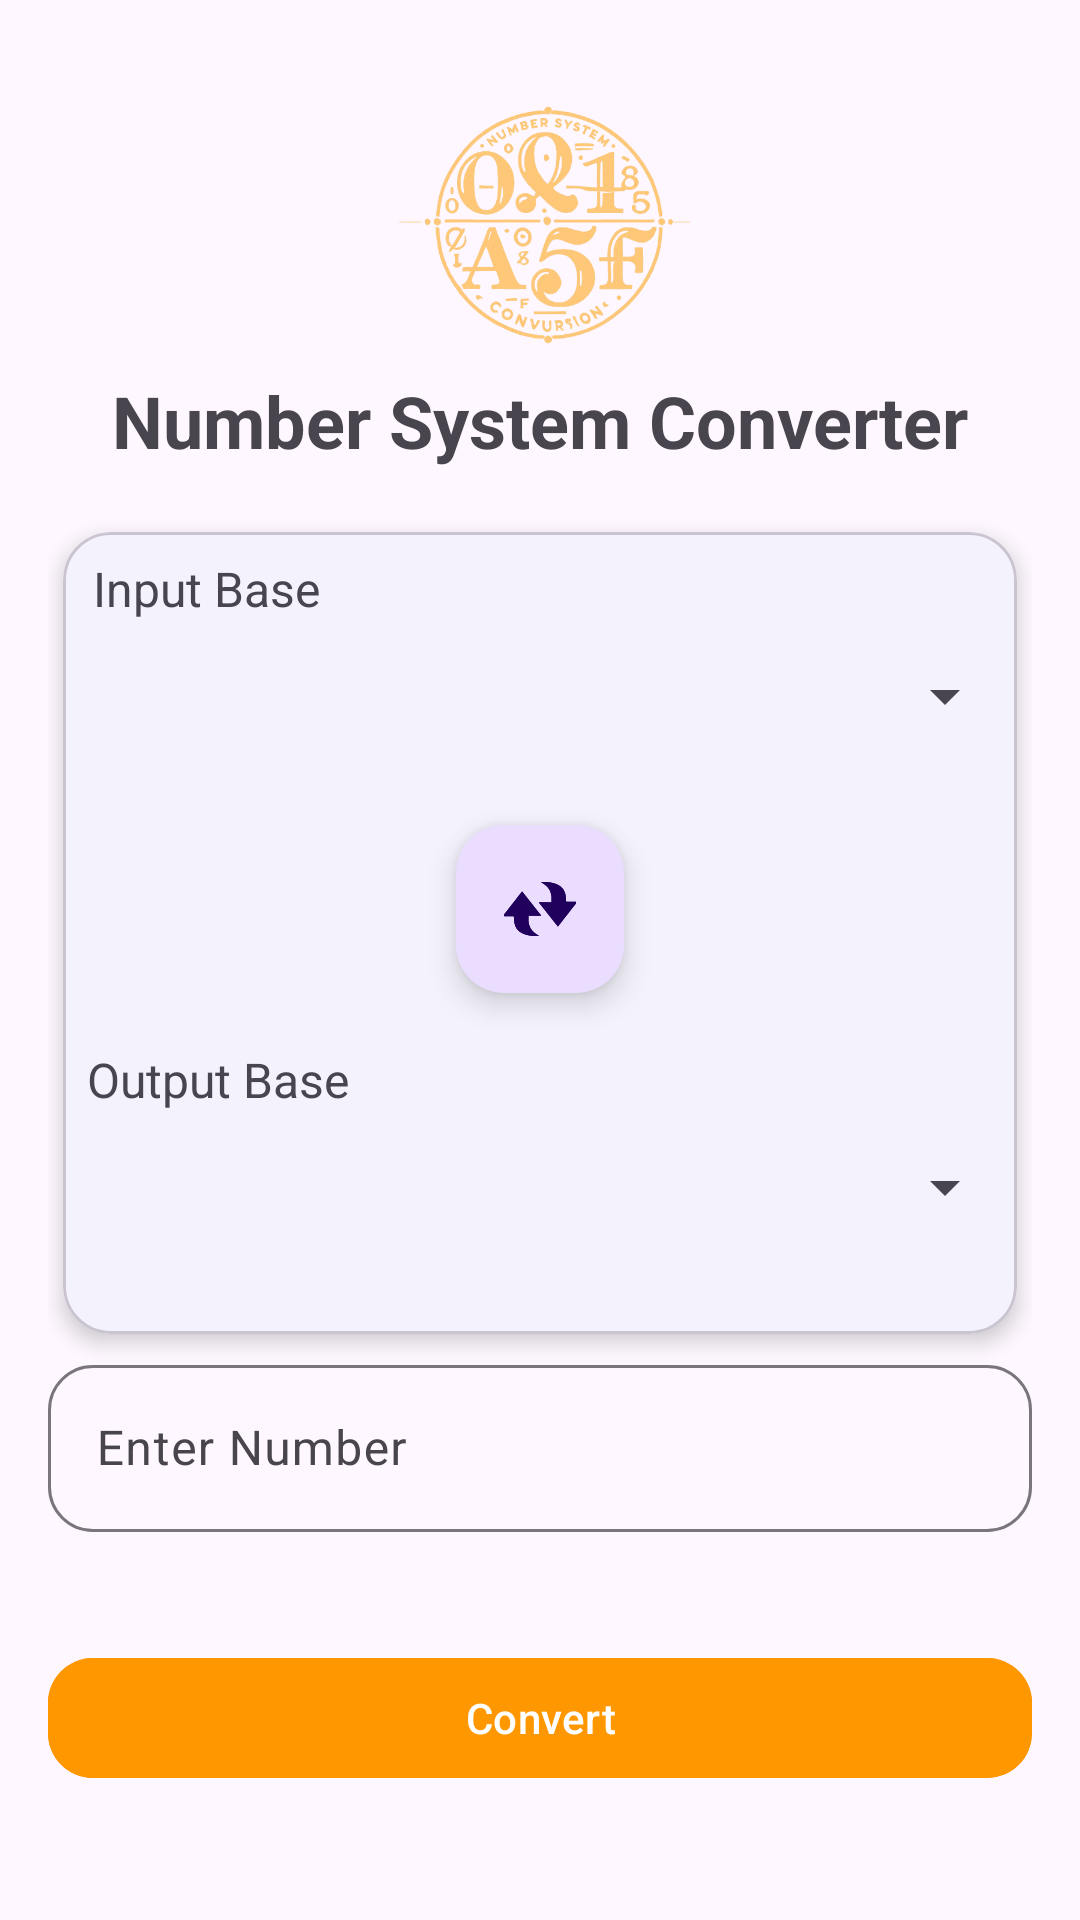

Screen size 1080px x 1920px. Icon name, then its center in pixels as [x,y]:
Exchange Base: [540,909]
